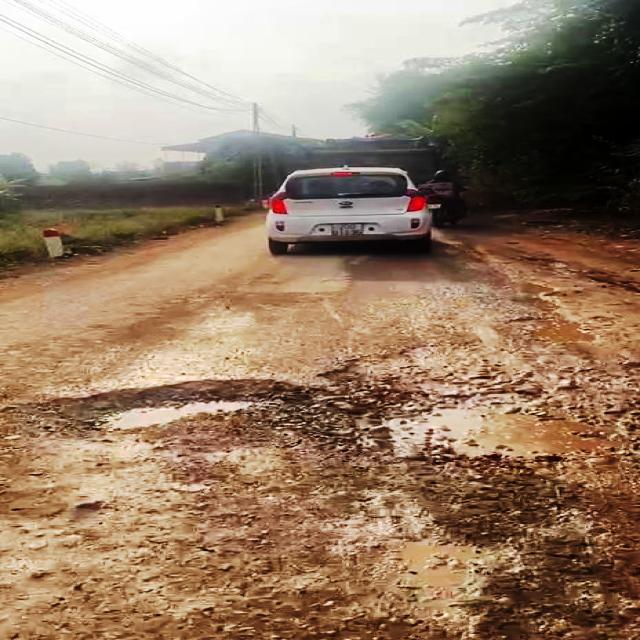pothole: (313, 379, 640, 458), (0, 374, 323, 448), (355, 533, 535, 635), (495, 283, 611, 349), (312, 343, 486, 385)
